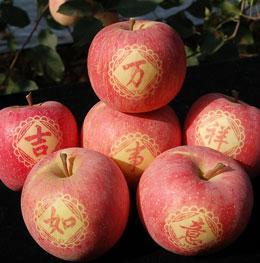apple: (134, 146, 251, 258), (19, 147, 128, 259), (86, 18, 189, 111), (78, 94, 185, 175), (1, 98, 76, 190), (185, 89, 259, 169)
